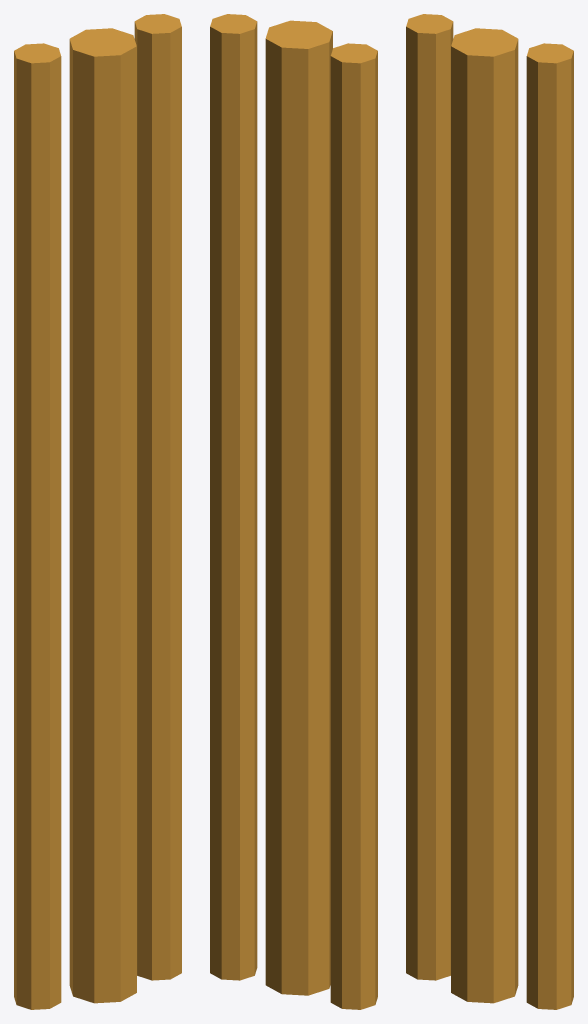
Rendered from scifi_pipes_vertical.fbx.
3 views of the same model, side by side, from view 1: azimuth 30°, elevation 25°; view 2: azimuth 150°, elevation 25°; view 3: azimuth 330°, elevation 25° (orthographic).
Visible parts, largest first — view 1: Cube.010; view 2: Cube.010; view 3: Cube.010.
Boxes of the visible parts, left/top/right/bottom form: Cube.010: left=14, top=14, right=181, bottom=1009; Cube.010: left=210, top=14, right=377, bottom=1009; Cube.010: left=406, top=14, right=573, bottom=1009.
Bounding box in the file's own units: 0.54 × 3 × 0.2.
